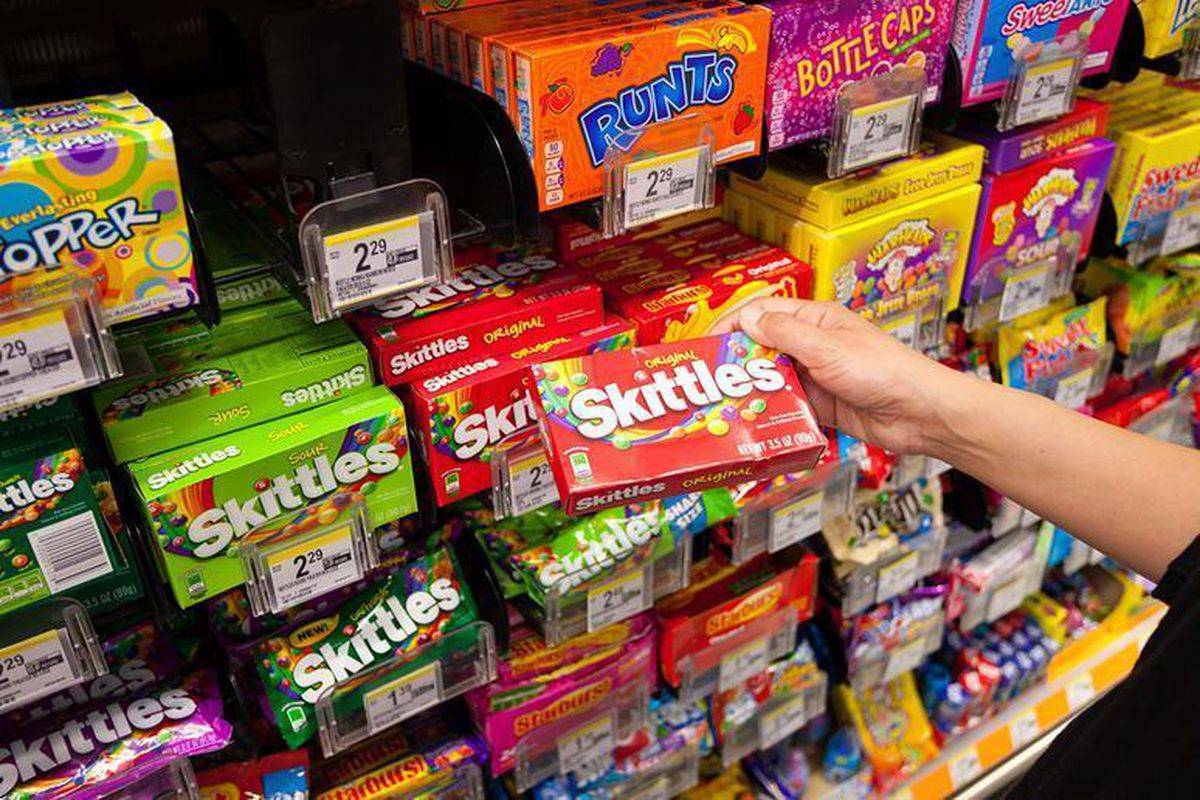Skittles: (105, 431, 422, 561), (104, 356, 367, 426)
